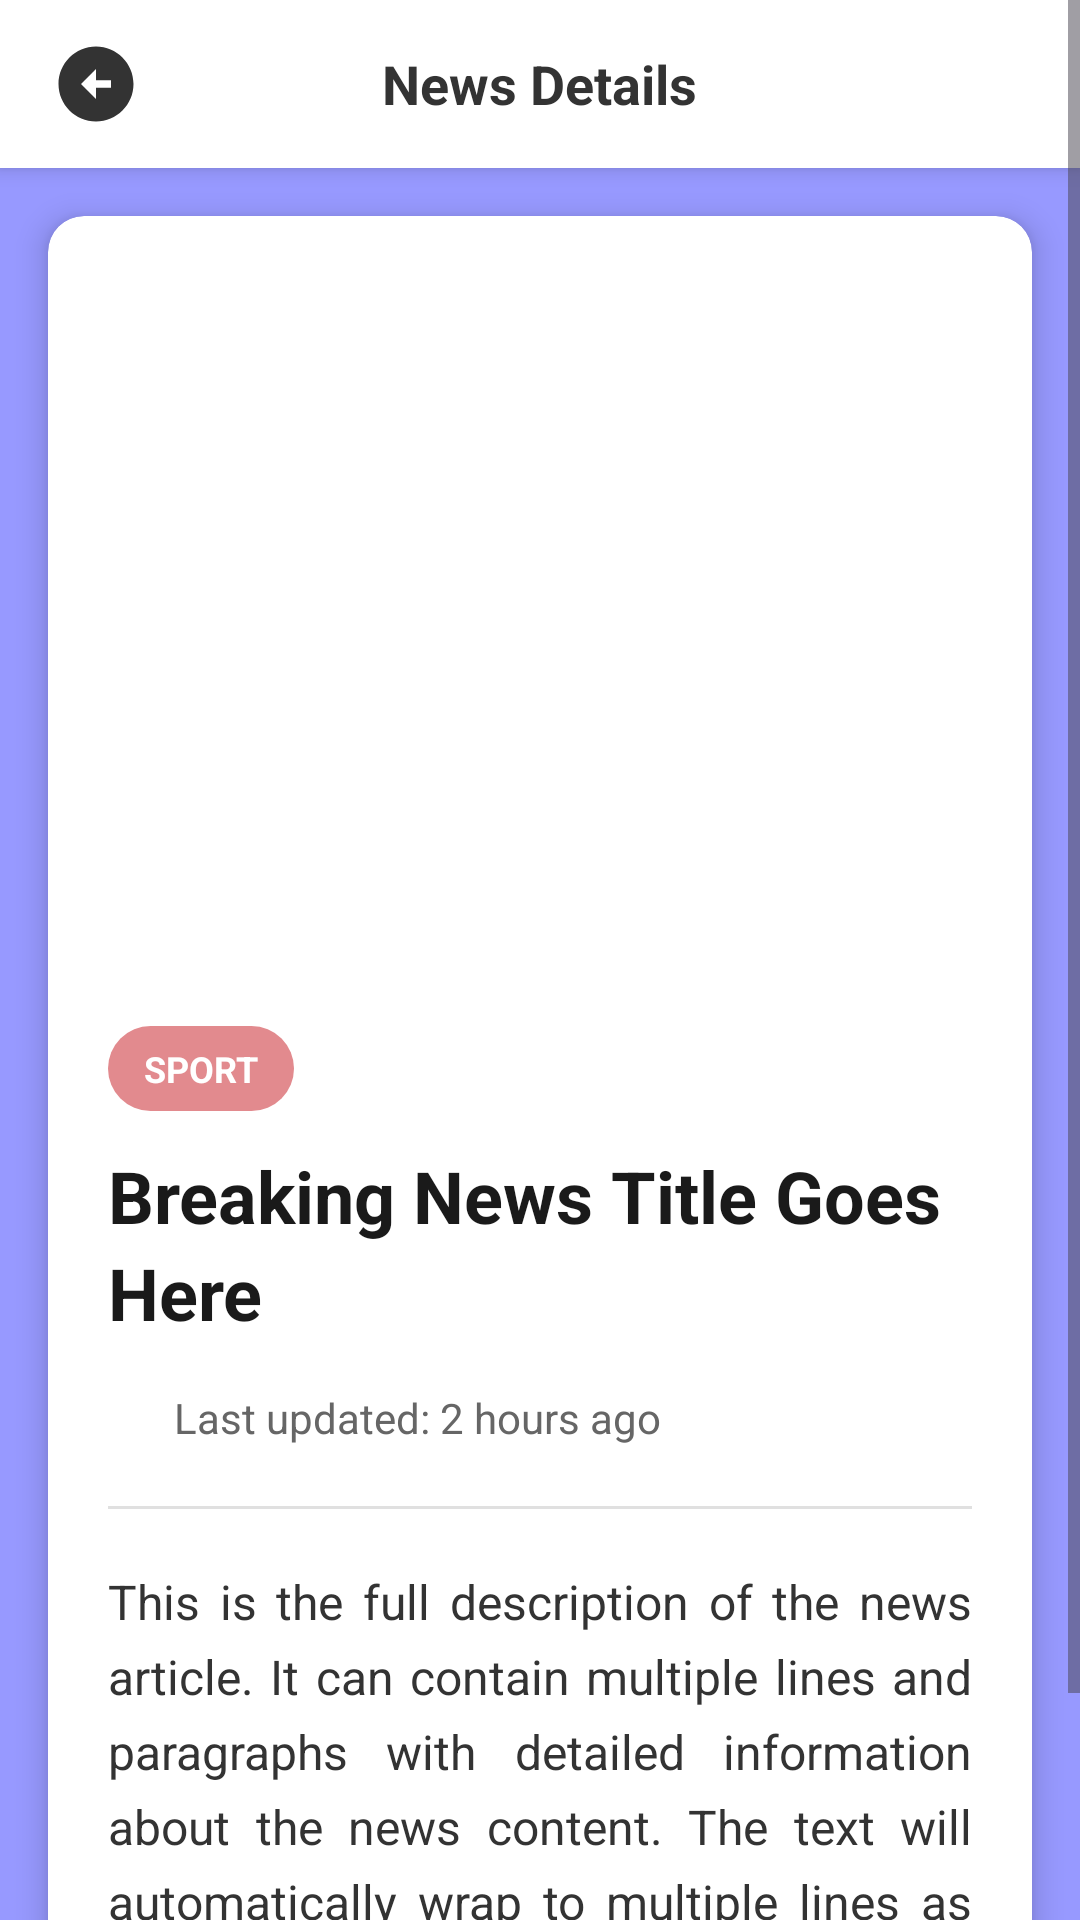

Icons on this 1080px×1920px Android screen, each with its box as (x1, y1, x2, y2):
Back: (58, 46, 134, 122)
